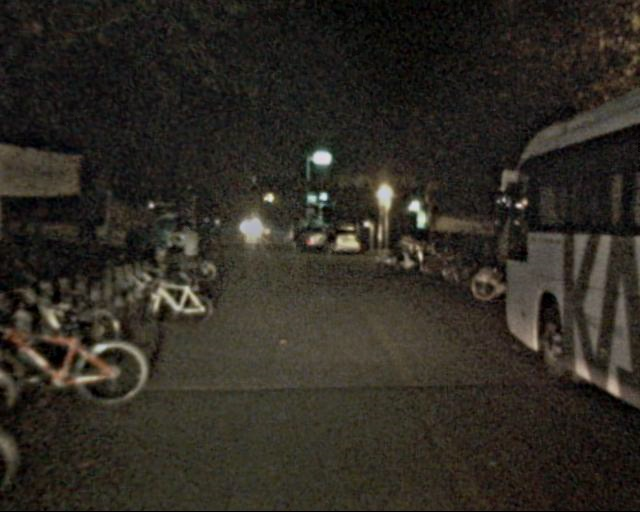person: (175, 221, 204, 292), (289, 224, 306, 265), (322, 225, 338, 265)
